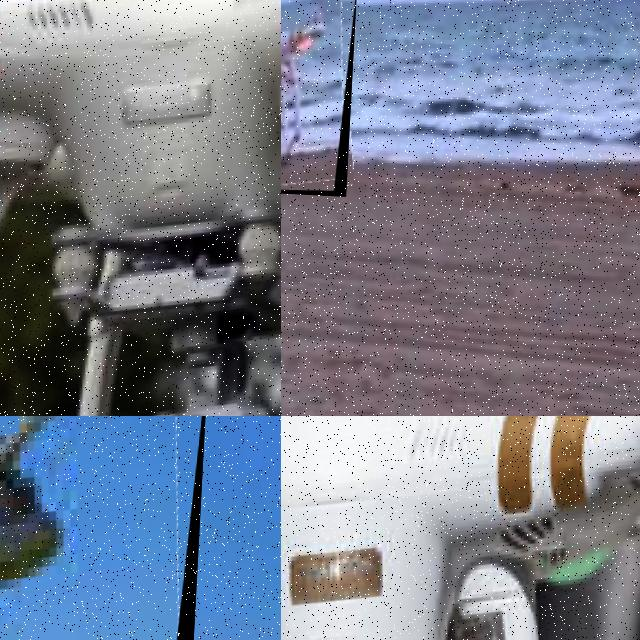drone: (0, 0, 281, 416), (281, 416, 640, 640), (0, 416, 207, 640), (281, 0, 357, 196)
